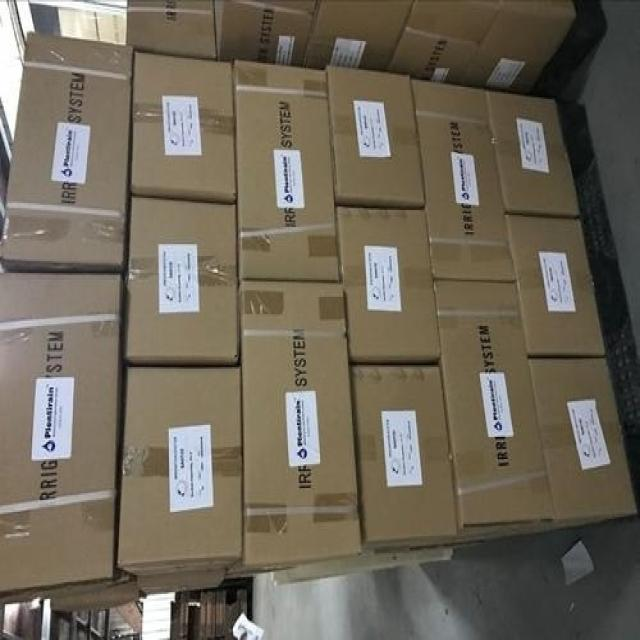box: (0, 270, 125, 602), (239, 282, 362, 573), (0, 31, 134, 271), (435, 278, 554, 544), (115, 364, 242, 577), (234, 61, 340, 283), (410, 77, 515, 280), (348, 362, 461, 548), (123, 195, 241, 364), (529, 355, 637, 532), (335, 205, 442, 365), (129, 51, 237, 203), (504, 213, 607, 357), (326, 65, 425, 207), (486, 89, 580, 215), (385, 0, 499, 85), (303, 0, 413, 72), (215, 0, 317, 67), (125, 0, 216, 58), (50, 568, 140, 614), (136, 572, 225, 597)
